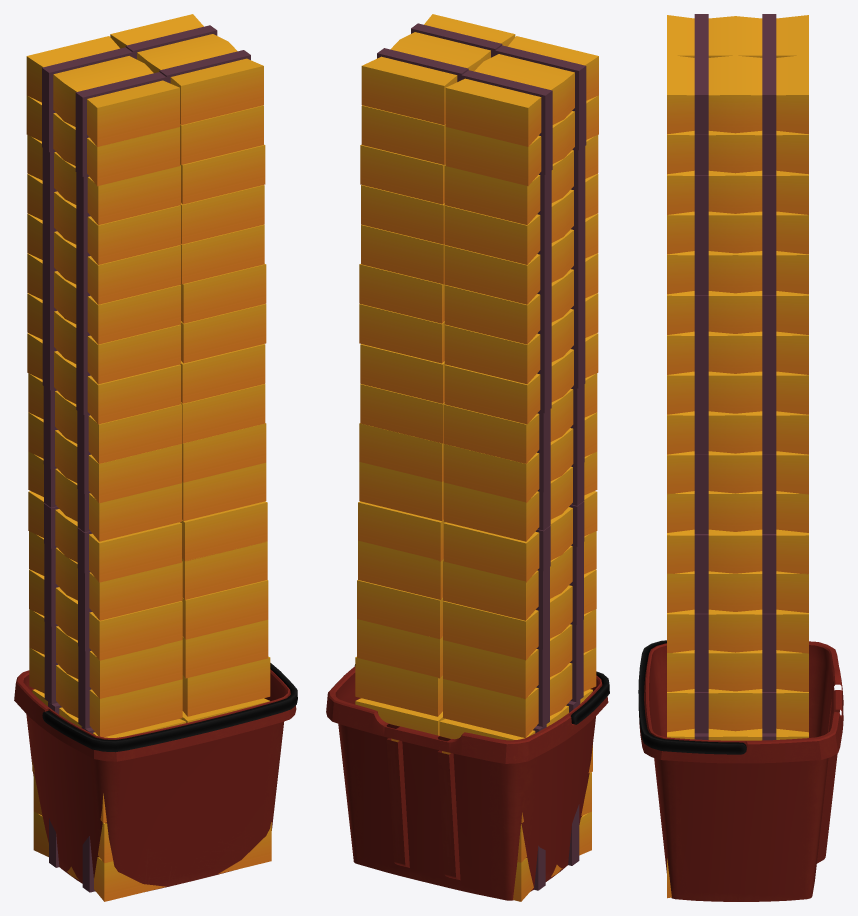
File: redbasket2.fbx
3 views of the same model, side by side, from view 1: azimuth 30°, elevation 25°; view 2: azimuth 150°, elevation 25°; view 3: azimuth 270°, elevation 25° (orthographic).
Parts seen in each view (by area): view 1: BASE, Haystack_38, Haystack_39, Haystack_17, Haystack_25, Haystack_13, Haystack_33, Haystack_26, Haystack_30, Haystack_29, Haystack_21, Haystack_22 (+26 smaller); view 2: BASE, Haystack_38, Haystack_39, Haystack_17, Haystack_25, Haystack_26, Haystack_30, Haystack_29, Haystack_33, Haystack_22, Haystack_13, Haystack_37 (+26 smaller); view 3: BASE, Haystack_39, Haystack_16, Haystack_35, Haystack_28, Haystack_12, Haystack_8, Haystack_20, Haystack_36, Haystack_27, Haystack_23, Haystack_31 (+8 smaller).
Part boxes in pixels (<box>): BASE: <box>14,669,296,891</box>; Haystack_38: <box>26,36,179,146</box>; Haystack_39: <box>110,14,263,125</box>; Haystack_17: <box>28,491,181,582</box>; Haystack_25: <box>27,333,180,424</box>; Haystack_13: <box>29,569,182,660</box>; Haystack_33: <box>27,174,180,264</box>; Haystack_26: <box>27,293,180,384</box>; Haystack_30: <box>27,213,180,304</box>; Haystack_29: <box>27,253,180,344</box>; Haystack_21: <box>28,412,181,503</box>; Haystack_22: <box>28,373,181,463</box>; BASE: <box>326,666,608,900</box>; Haystack_38: <box>445,36,598,146</box>; Haystack_39: <box>361,14,515,125</box>; Haystack_17: <box>443,491,597,582</box>; Haystack_25: <box>444,333,598,424</box>; Haystack_26: <box>444,293,598,384</box>; Haystack_30: <box>444,213,598,304</box>; Haystack_29: <box>444,253,598,344</box>; Haystack_33: <box>444,173,598,264</box>; Haystack_22: <box>443,373,597,463</box>; Haystack_13: <box>443,569,596,660</box>; Haystack_37: <box>445,95,598,185</box>; BASE: <box>639,641,843,901</box>; Haystack_39: <box>667,53,808,134</box>; Haystack_16: <box>667,529,808,575</box>; Haystack_35: <box>667,170,808,215</box>; Haystack_28: <box>667,291,808,335</box>; Haystack_12: <box>667,609,808,654</box>; Haystack_8: <box>667,689,808,733</box>; Haystack_20: <box>667,451,808,495</box>; Haystack_36: <box>667,131,808,174</box>; Haystack_27: <box>667,331,808,375</box>; Haystack_23: <box>667,411,808,454</box>; Haystack_31: <box>667,251,808,294</box>.
Size of the model in its own units: 57.27 by 199 by 46.07.
